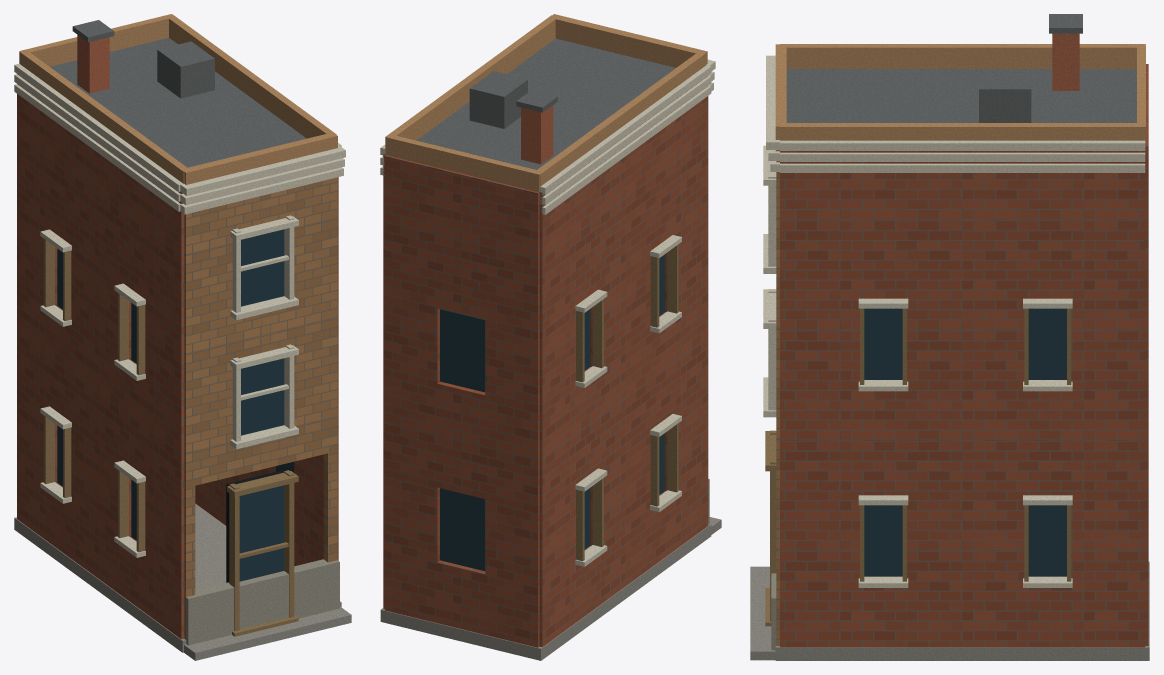
File: RUNDWN17_lod2.glb
3 views of the same model, side by side, from view 1: azimuth 30°, elevation 25°; view 2: azimuth 150°, elevation 25°; view 3: azimuth 270°, elevation 25° (orthographic). The views are drawn at different scales.
Parts seen in each view (by area): view 1: RUNDWN17_LOD2; view 2: RUNDWN17_LOD2; view 3: RUNDWN17_LOD2.
Boxes of the visible parts, x1,y1,x2,y2 form: RUNDWN17_LOD2: (14, 14, 351, 660); RUNDWN17_LOD2: (380, 14, 721, 660); RUNDWN17_LOD2: (750, 14, 1149, 660).
Size of the model in its own units: 3.71 by 10.45 by 6.57.
11 materials, 9 textured.
